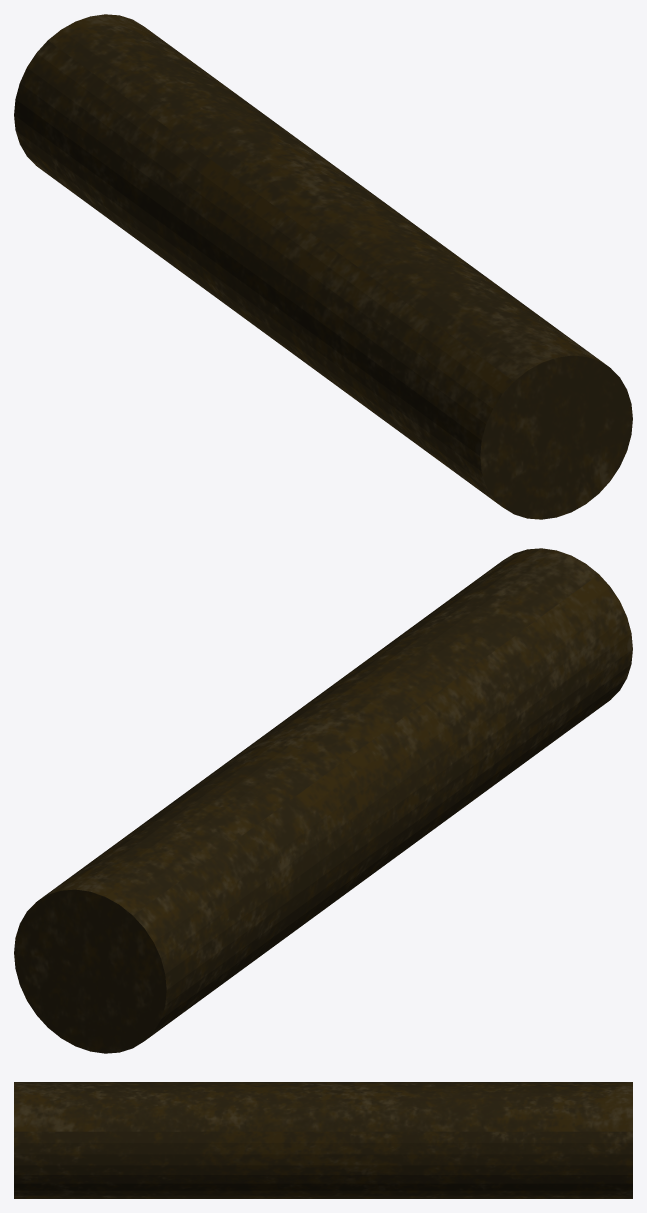
Rendered from Log.obj.
3 views of the same model, one above another, from view 1: azimuth 30°, elevation 25°; view 2: azimuth 150°, elevation 25°; view 3: azimuth 270°, elevation 25° (orthographic). The views are drawn at different scales.
Parts seen in each view (by area): view 1: Cylinder; view 2: Cylinder; view 3: Cylinder.
Part boxes in pixels (x1,y1,x2,y2): Cylinder: (14,14,632,519); Cylinder: (14,548,632,1053); Cylinder: (14,1082,632,1198).
Size of the model in its own units: 2 by 2 by 10.57.
